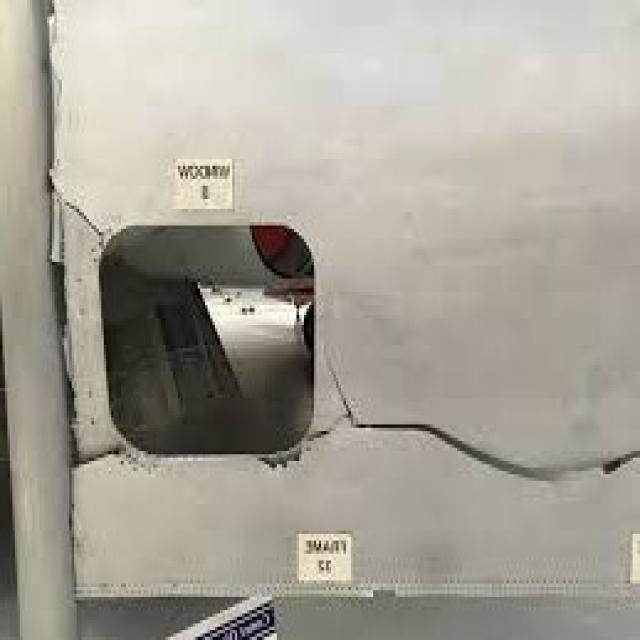Rupture: (339, 362, 625, 508), (54, 189, 109, 245), (77, 444, 136, 491)
